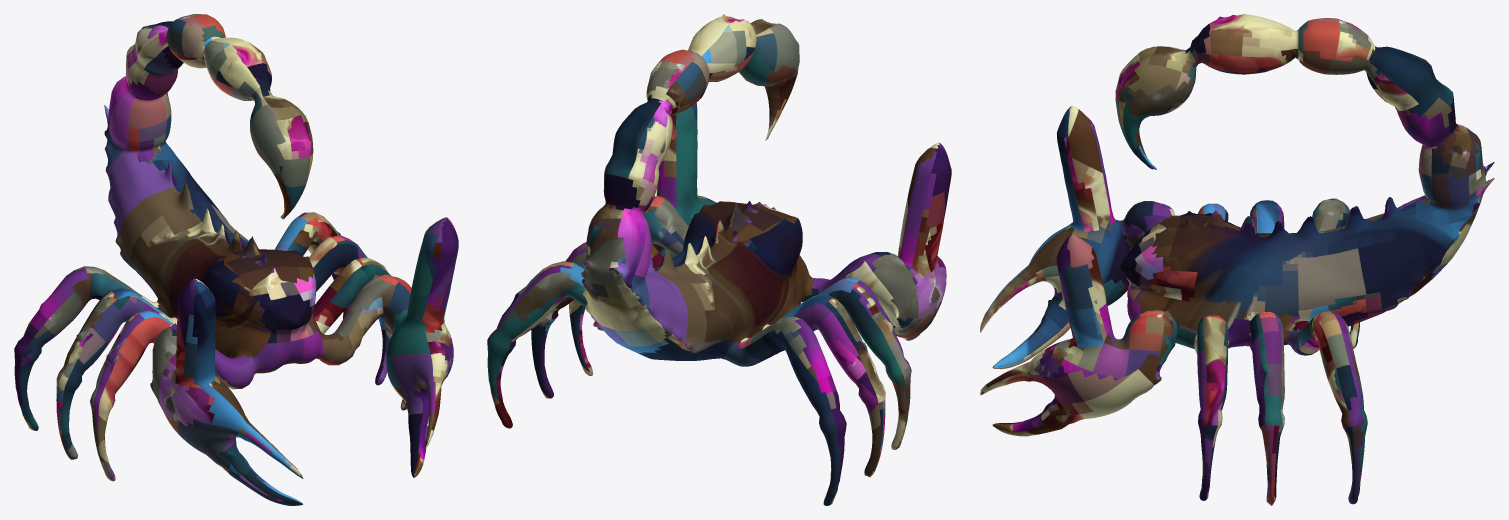
Rendered from sakrner1.fbx.
3 renders of one model, left to right at view 1: azimuth 30°, elevation 25°; view 2: azimuth 150°, elevation 25°; view 3: azimuth 270°, elevation 25°, orthographic. The views are drawn at different scales.
Visible parts, largest first — view 1: model.002; view 2: model.002; view 3: model.002.
Boxes of the visible parts, bbox=[...] form: model.002: bbox=[14, 14, 458, 505]; model.002: bbox=[487, 14, 951, 505]; model.002: bbox=[980, 14, 1494, 505].
Size of the model in its own units: 152 by 165 by 189.
